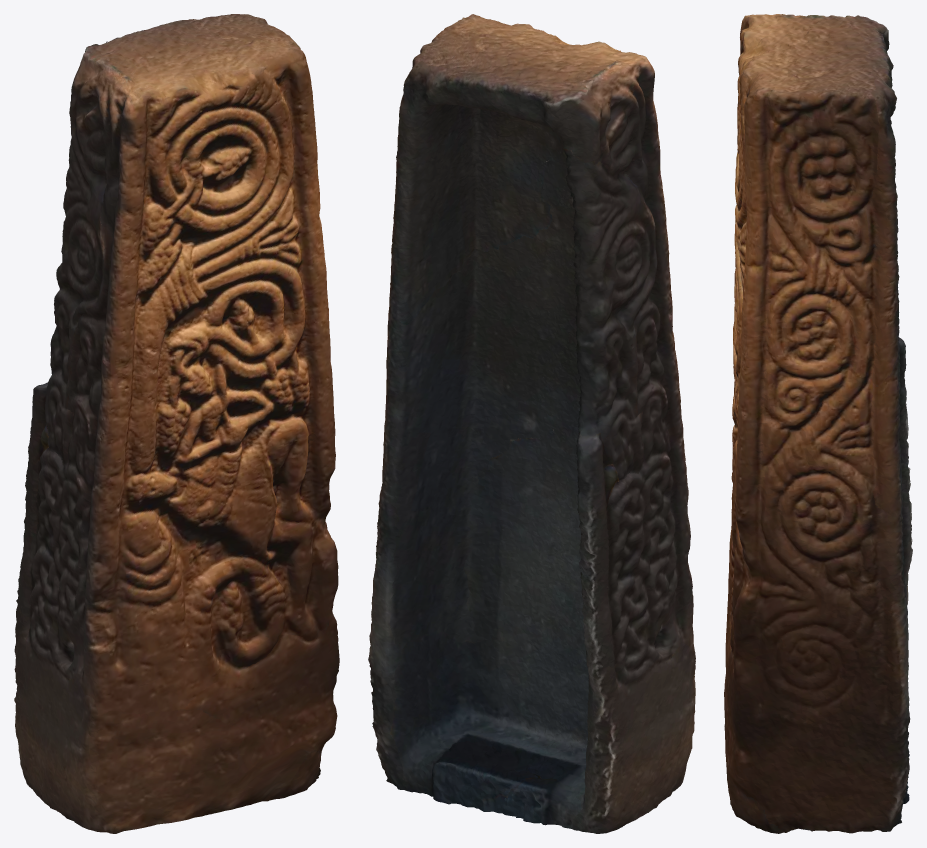
File: preview.glb
The picture shows the model from 3 angles, left to right: view 1: azimuth 30°, elevation 25°; view 2: azimuth 150°, elevation 25°; view 3: azimuth 270°, elevation 25°; orthographic projection.
Parts seen in each view (by area): view 1: Object_2; view 2: Object_2; view 3: Object_2.
Boxes of the visible parts, x1,y1,x2,y2 form: Object_2: (14,14,339,833); Object_2: (368,14,695,833); Object_2: (724,14,912,833).
Size of the model in its own units: 3.42 by 9.22 by 2.16.
1 material, 1 textured.
